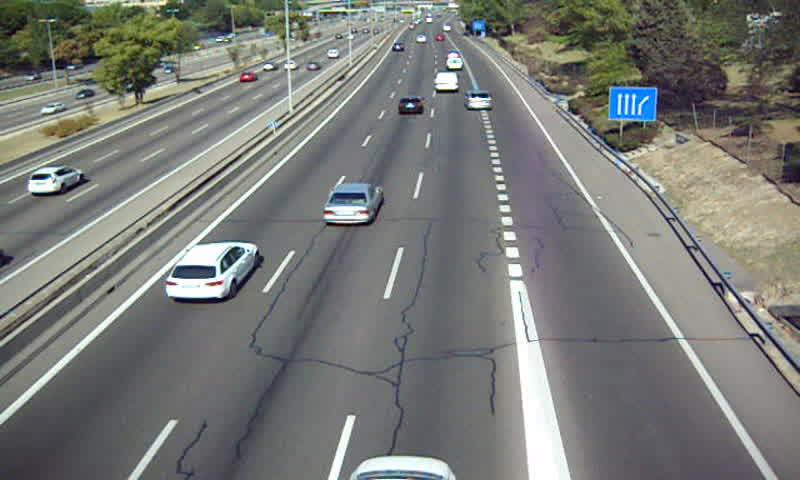car: (166, 241, 260, 301), (321, 182, 382, 226), (465, 89, 494, 111), (396, 96, 424, 116)
van: (433, 72, 458, 93), (448, 56, 464, 71)
